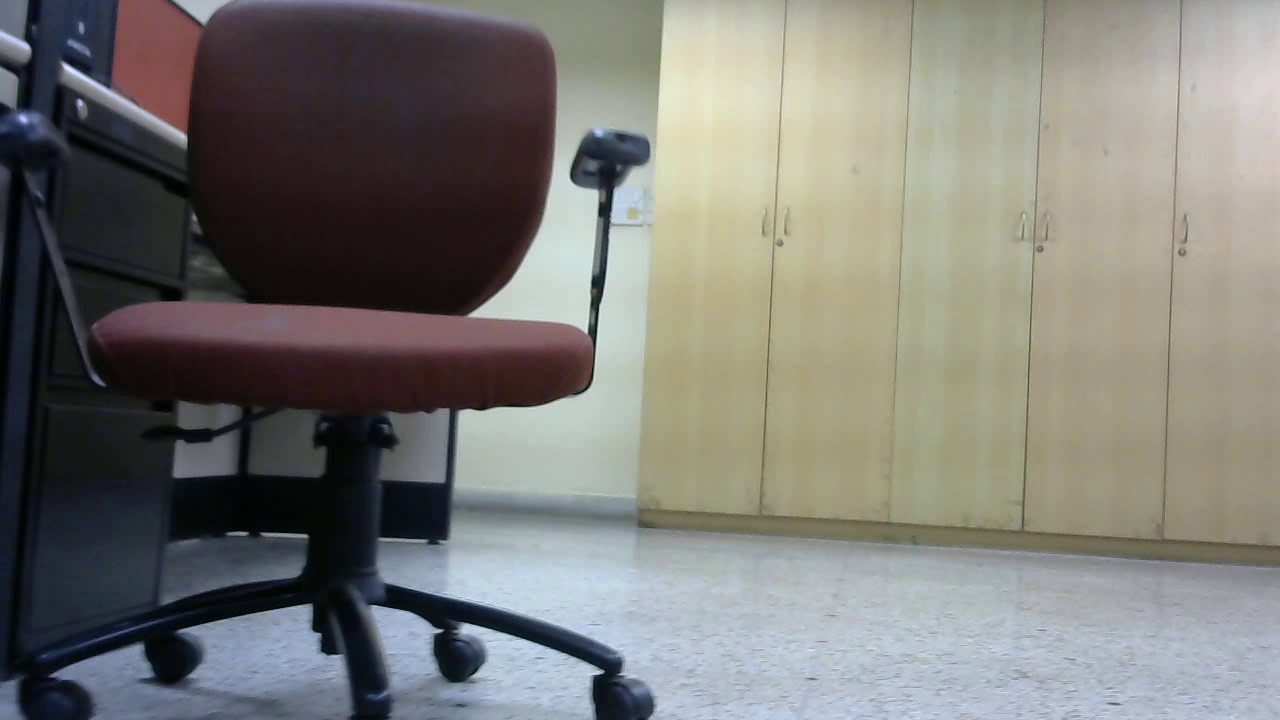chair: (1, 3, 669, 720)
